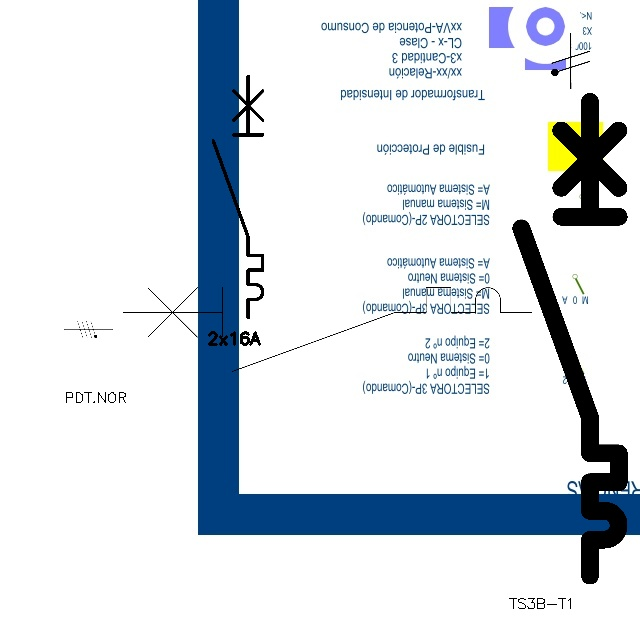interruptor_termomagnetico: (509, 89, 631, 588), (112, 277, 542, 382), (207, 70, 269, 324)
